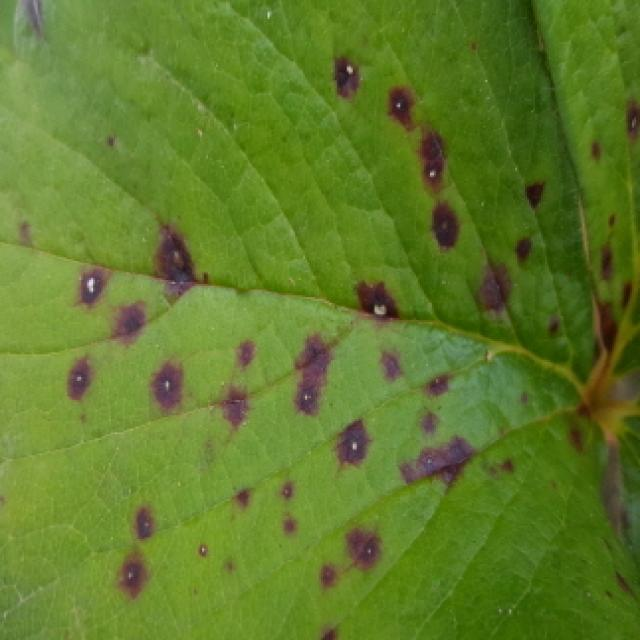Leaf Spot: (0, 0, 640, 640), (531, 0, 640, 369)
